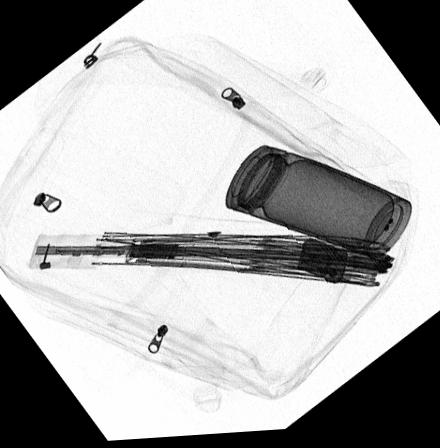Lighter: (296, 241, 346, 289)
